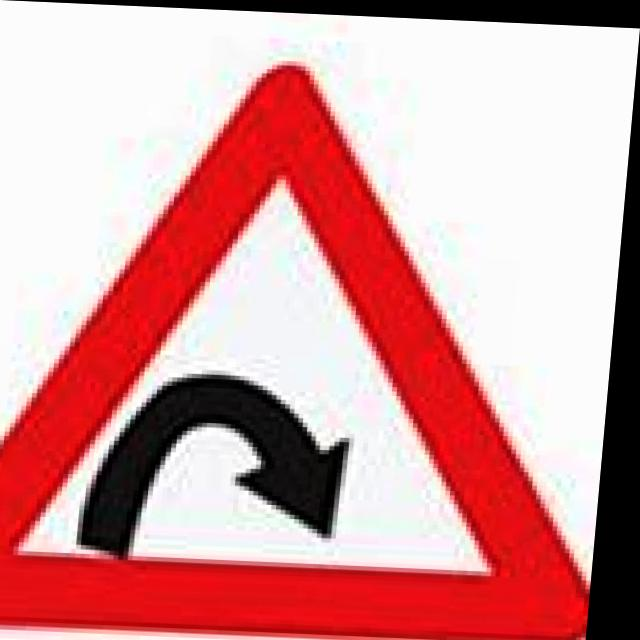RIGHT_HAIR_PIN_BEND: (0, 48, 637, 640)
